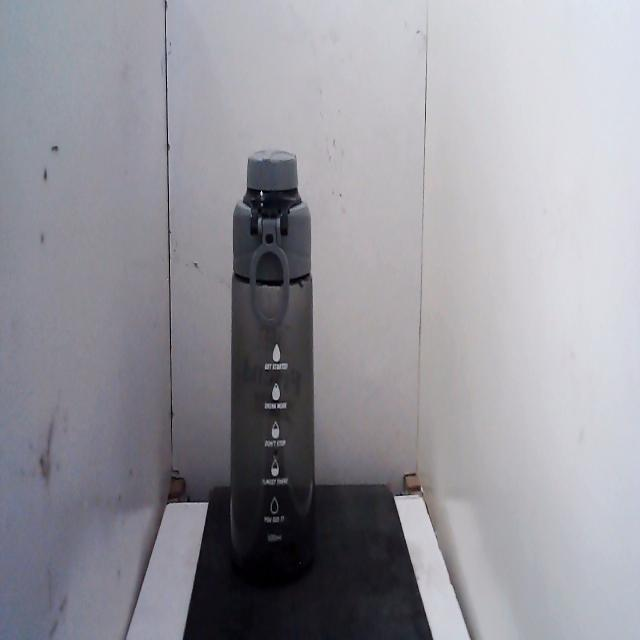plastico: (224, 138, 322, 594)
